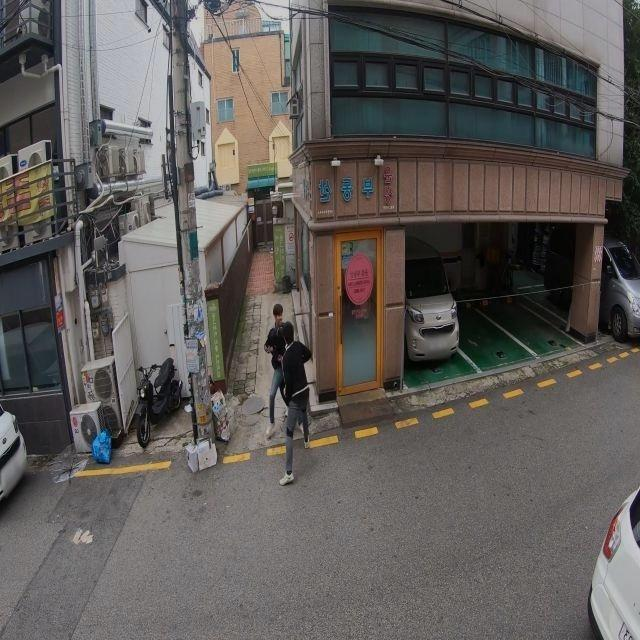fight: (262, 303, 314, 487)
